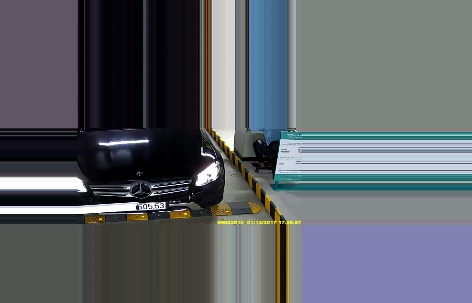plate: (126, 199, 171, 211)
